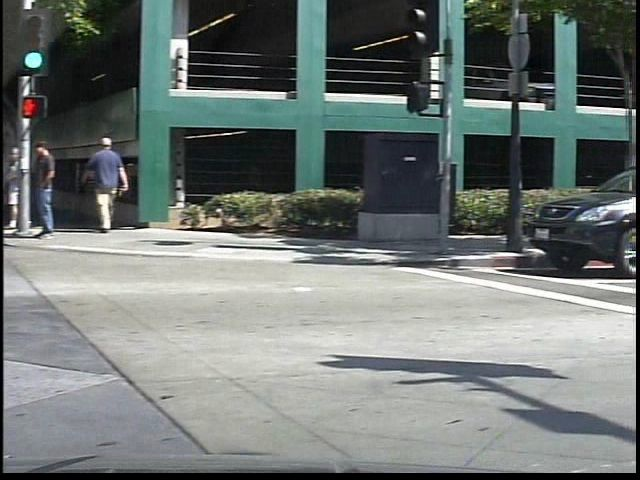person: (92, 134, 145, 236), (36, 131, 75, 244), (14, 142, 38, 233)
